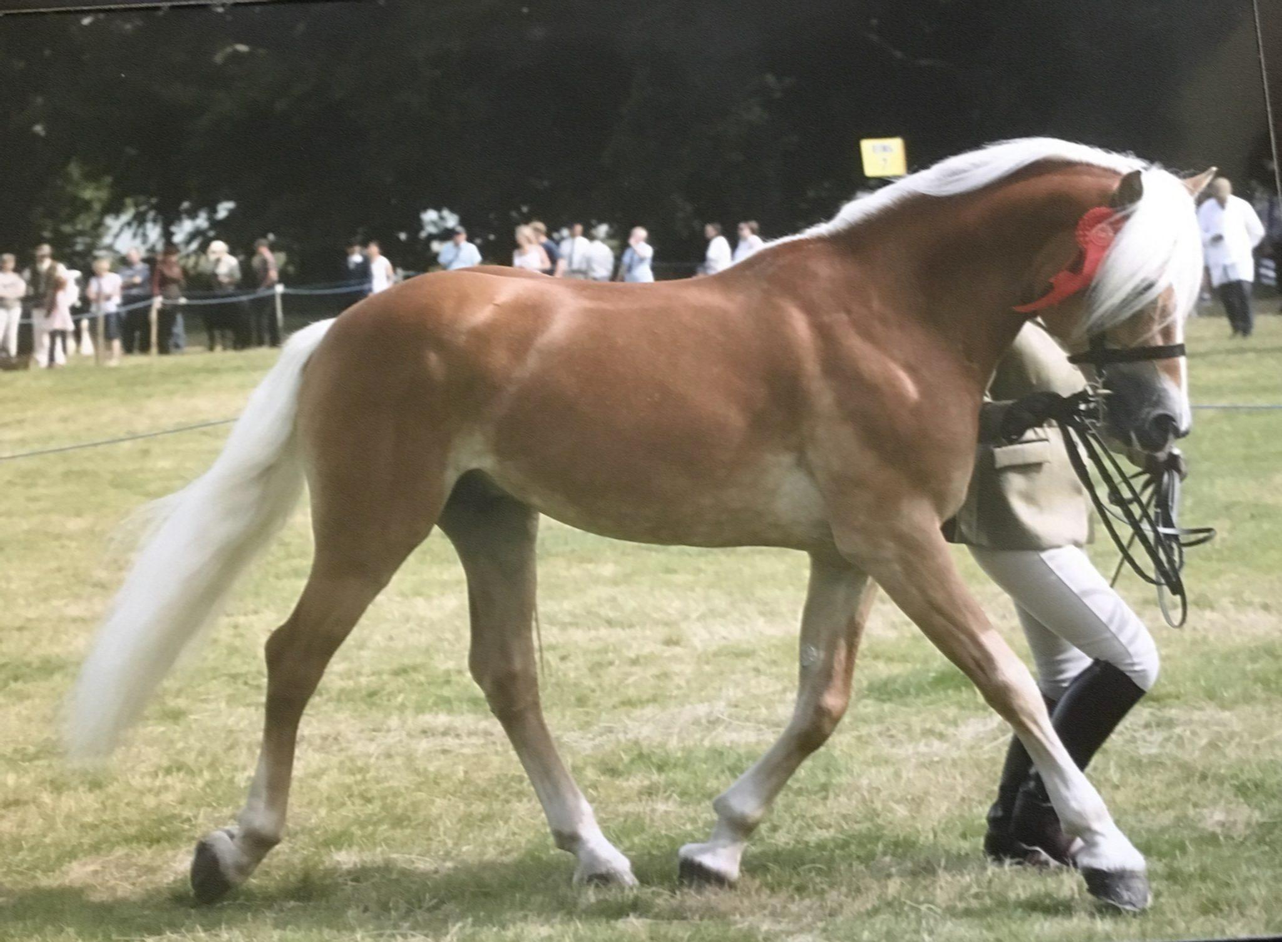horse: (45, 123, 1228, 930)
